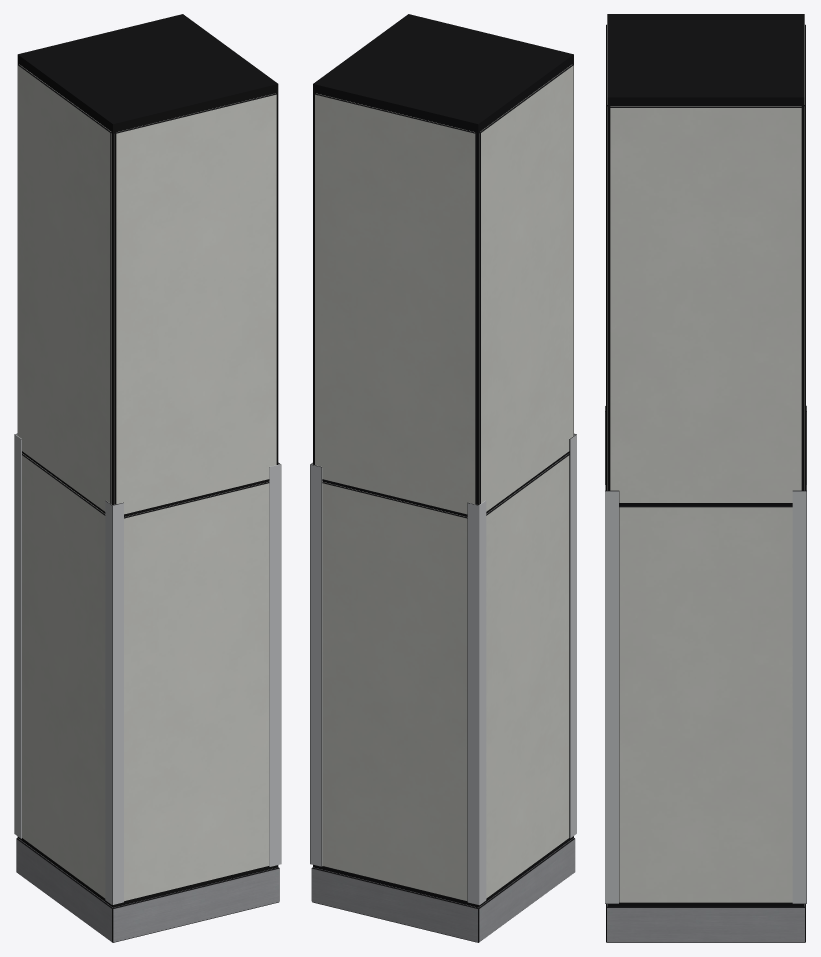
The model's file is gteki_column_sleeve_600x600_h2800.glb.
The picture shows the model from 3 angles, left to right: view 1: azimuth 30°, elevation 25°; view 2: azimuth 150°, elevation 25°; view 3: azimuth 270°, elevation 25°; orthographic projection. The views are drawn at different scales.
Visible parts, largest first — view 1: VIS_panels, VIS_core, VIS_guards, VIS_plinth; view 2: VIS_panels, VIS_core, VIS_guards, VIS_plinth; view 3: VIS_panels, VIS_core, VIS_guards, VIS_plinth.
Boxes of the visible parts, x1,y1,x2,y2 form: VIS_panels: (18,64,276,901); VIS_core: (17,14,278,907); VIS_guards: (14,433,281,905); VIS_plinth: (16,837,279,942); VIS_panels: (314,64,573,901); VIS_core: (313,14,573,907); VIS_guards: (310,433,576,905); VIS_plinth: (311,838,575,942); VIS_panels: (606,24,805,902); VIS_core: (607,14,804,906); VIS_guards: (605,405,806,903); VIS_plinth: (606,904,805,942).
Bounding box in the file's own units: 0.606 × 2.8 × 0.606.
Materials: 4 (2 with a texture image).
